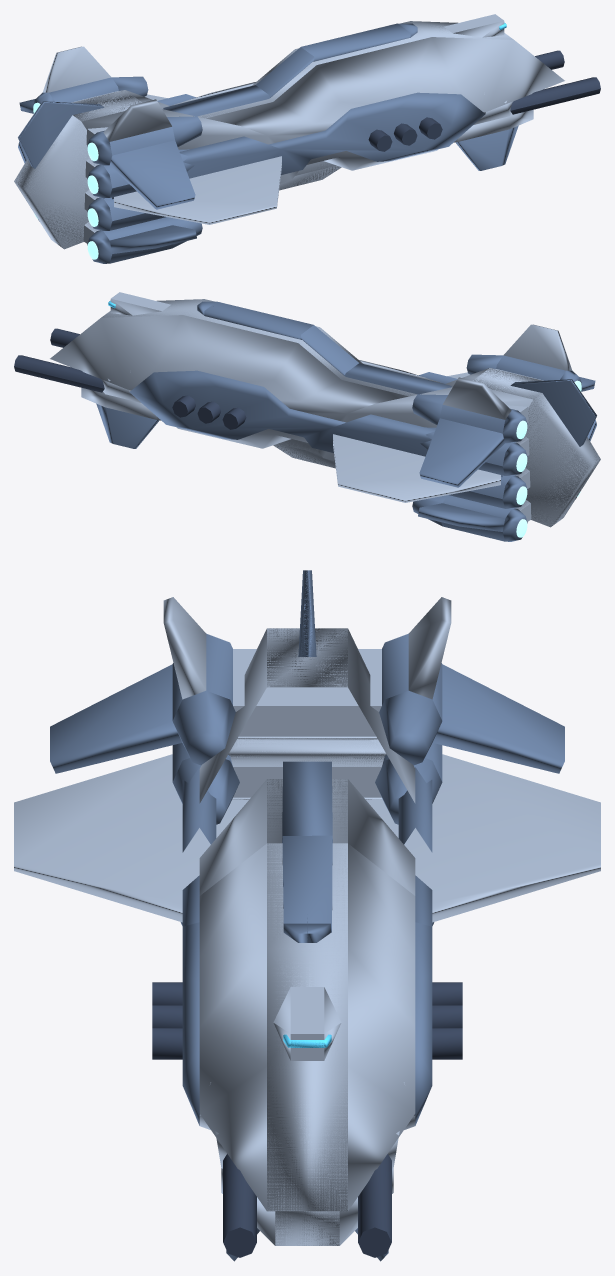
File: broadside-ship_02.glb
3 views of the same model, one above another, from view 1: azimuth 30°, elevation 25°; view 2: azimuth 150°, elevation 25°; view 3: azimuth 270°, elevation 25° (orthographic). The views are drawn at different scales.
Visible parts, largest first — view 1: hull, hullD, dark, engine; view 2: hull, hullD, dark, engine; view 3: hull, hullD, dark.
Boxes of the visible parts, x1,y1,x2,y2 form: hull: (14, 14, 564, 249); hullD: (18, 23, 518, 263); dark: (368, 50, 600, 151); engine: (33, 102, 98, 259); hull: (50, 292, 600, 527); hullD: (96, 301, 596, 541); dark: (14, 328, 246, 429); engine: (516, 380, 581, 537); hull: (14, 597, 600, 1245); hullD: (50, 570, 564, 1261); dark: (152, 982, 462, 1257).
Size of the model in its own units: 12 by 3.41 by 5.86.
